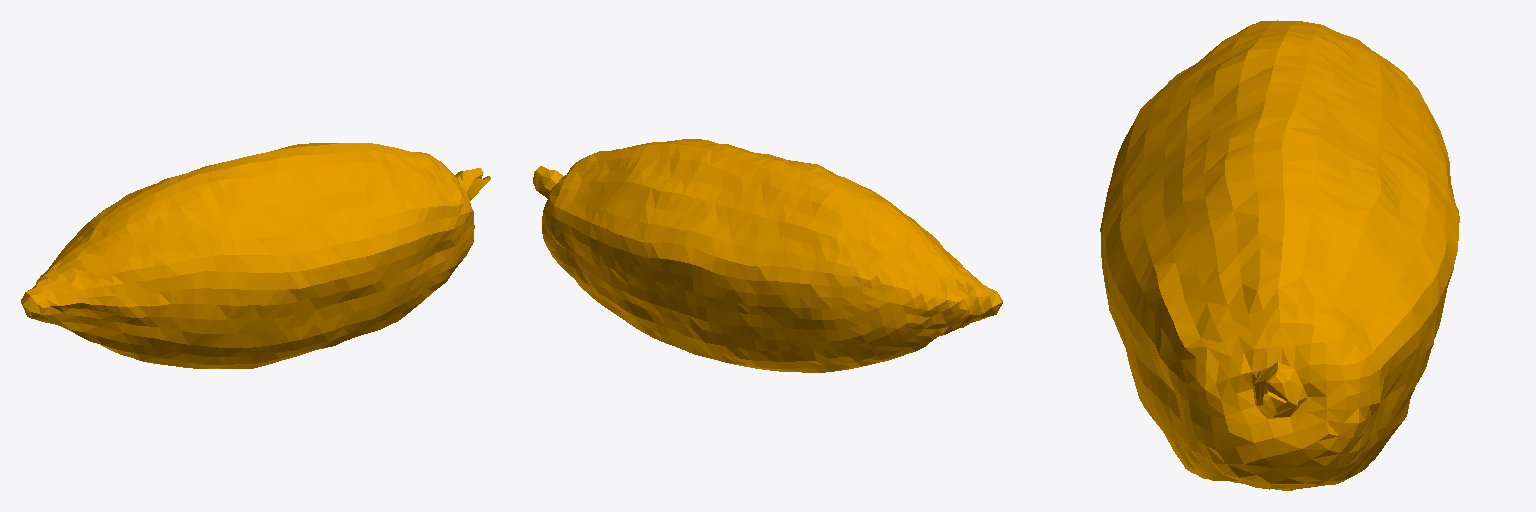
URDF robot description (mesh_object):
<?xml version="1.0" ?>
<robot name="mesh_object">
  <link name="base">
    <visual>
      <geometry>
        <mesh filename="fig_(fruit)_4.obj" scale="1 1 1"/>
      </geometry>
    </visual>
    <collision>
      <geometry>
        <mesh filename="fig_(fruit)_4.obj" scale="1 1 1"/>
      </geometry>
    </collision>
    <inertial>
      <origin xyz="-0.003391 -0.001484 0.045135" rpy="0 0 0"/>
      <mass value="0.5"/>
      <inertia ixx="0.01" iyy="0.01" izz="0.01" ixy="0" ixz="0" iyz="0"/>
    </inertial>
  </link>
</robot>

--- What the picture shows (computed from the rendered views, not written in the file) ---
3 views of the same robot in one strip: view 1: azimuth 30°, elevation 25°; view 2: azimuth 150°, elevation 25°; view 3: azimuth 270°, elevation 25° (orthographic).
Model mesh_object with 1 links and 0 joints (none), rooted at base, posed every joint at zero.
Visible links, largest first — view 1: base; view 2: base; view 3: base.
Link boxes in pixels (x1,y1,x2,y2): base: (21, 143, 490, 368); base: (533, 139, 1002, 372); base: (1100, 20, 1459, 490).
Bounding box of the posed robot: 0.2301 × 0.09 × 0.0903 m (x, y, z).
1 mesh visuals loaded from 1 distinct referenced files (1 OBJ).
